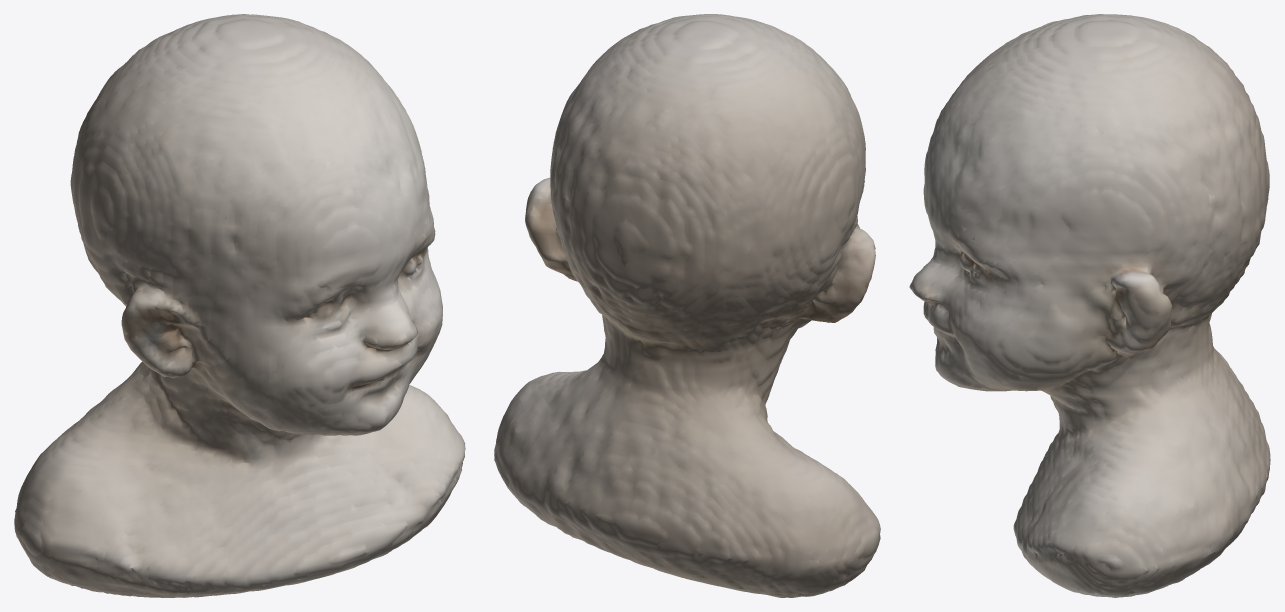
The model's file is age-one.glb.
3 views of the same model, side by side, from view 1: azimuth 30°, elevation 25°; view 2: azimuth 150°, elevation 25°; view 3: azimuth 270°, elevation 25° (orthographic). The views are drawn at different scales.
Parts seen in each view (by area): view 1: world; view 2: world; view 3: world.
Boxes of the visible parts, box(x1,y1,x2,y2) form: world: box(14, 14, 465, 597); world: box(494, 14, 880, 597); world: box(909, 14, 1270, 597).
Bounding box in the file's own units: 0.7763 × 0.9876 × 0.6306.
